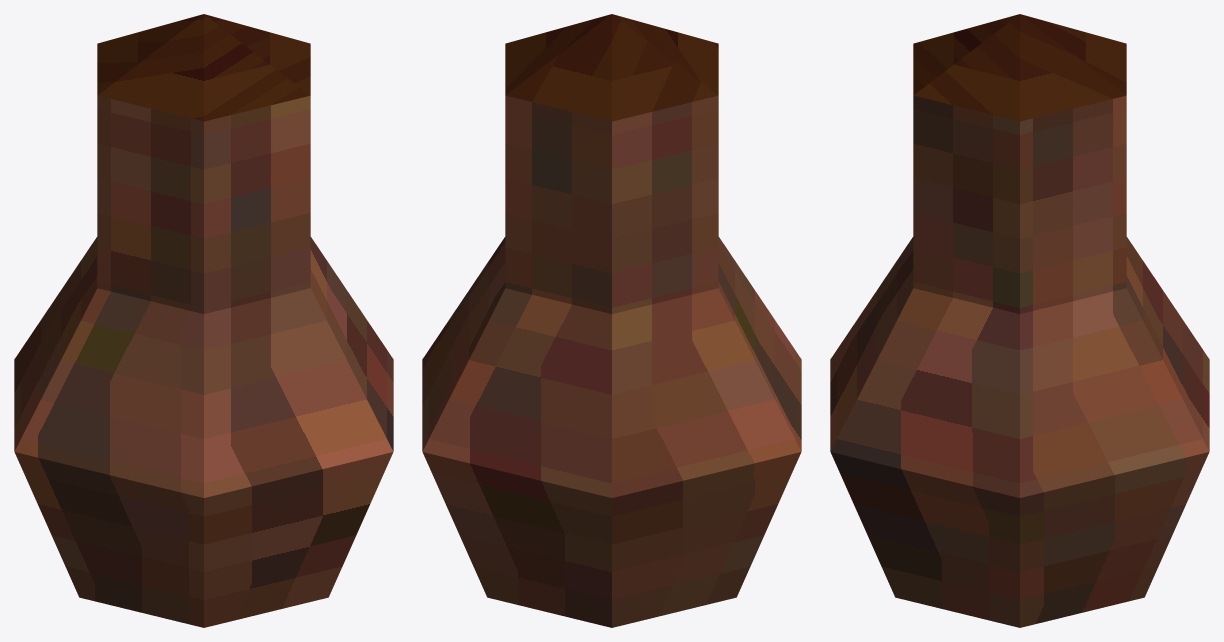
Rendered from jar.obj.
3 renders of one model, left to right at view 1: azimuth 30°, elevation 25°; view 2: azimuth 150°, elevation 25°; view 3: azimuth 270°, elevation 25°, orthographic.
Parts seen in each view (by area): view 1: Geoset_000_Geoset_000_None_16.png, Geoset_000_Geoset_000_None; view 2: Geoset_000_Geoset_000_None_16.png, Geoset_000_Geoset_000_None; view 3: Geoset_000_Geoset_000_None_16.png, Geoset_000_Geoset_000_None.
Part boxes in pixels (box(x1,y1,x2,y2)): Geoset_000_Geoset_000_None_16.png: box(14, 95, 393, 627); Geoset_000_Geoset_000_None: box(97, 14, 310, 121); Geoset_000_Geoset_000_None_16.png: box(422, 95, 801, 627); Geoset_000_Geoset_000_None: box(505, 14, 718, 121); Geoset_000_Geoset_000_None_16.png: box(830, 95, 1209, 627); Geoset_000_Geoset_000_None: box(913, 14, 1126, 121).
Size of the model in its own units: 0.5079 by 0.7081 by 0.4398.
